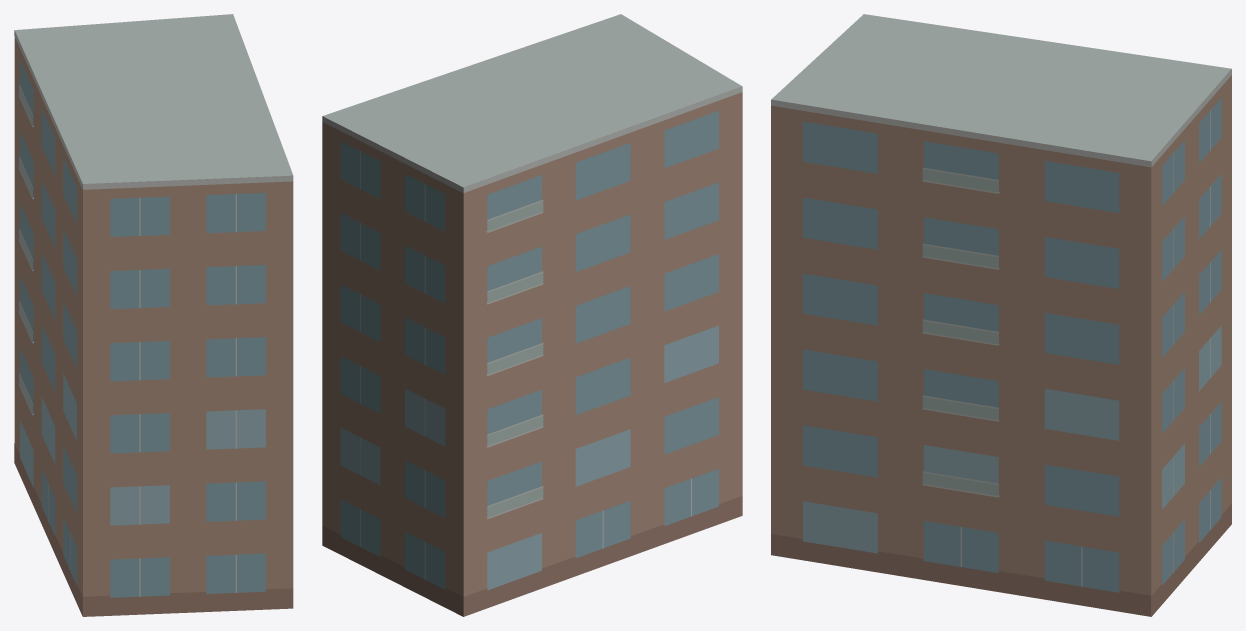
File: survey-upis-32893037.glb
The picture shows the model from 3 angles, left to right: view 1: azimuth 30°, elevation 25°; view 2: azimuth 150°, elevation 25°; view 3: azimuth 270°, elevation 25°; orthographic projection. The views are drawn at different scales.
Parts seen in each view (by area): view 1: survey-upis-32893037.tmp; view 2: survey-upis-32893037.tmp; view 3: survey-upis-32893037.tmp.
Part boxes in pixels (x1,y1,x2,y2): survey-upis-32893037.tmp: (14,14,293,616); survey-upis-32893037.tmp: (322,14,742,616); survey-upis-32893037.tmp: (771,14,1231,616).
Bounding box in the file's own units: 12.7 × 18.3 × 16.78.
